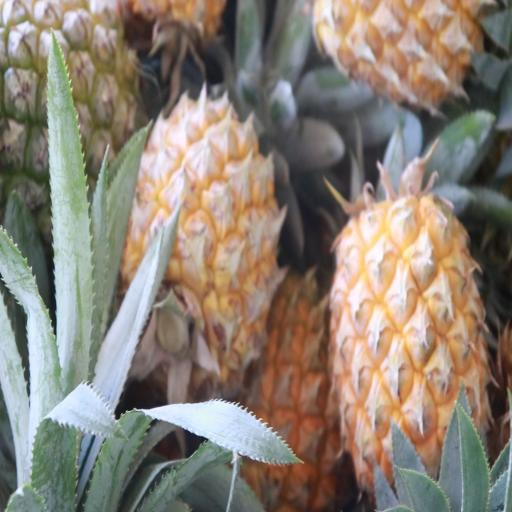Pineapple - v8 v1: (339, 202, 490, 510), (125, 95, 278, 381), (232, 275, 345, 511)
